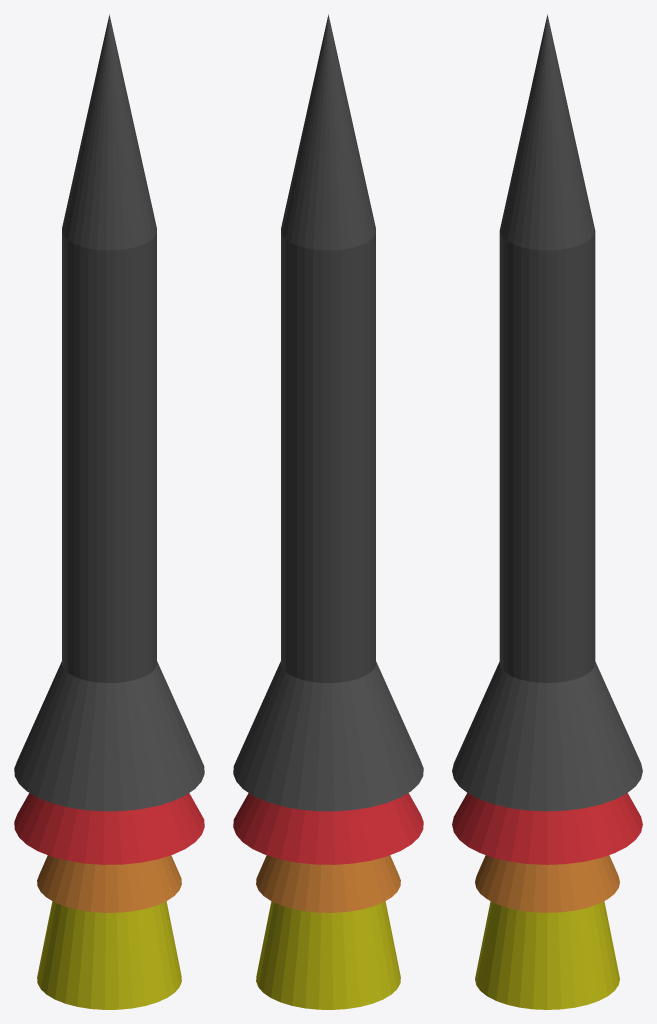
File: missile.glb
The picture shows the model from 3 angles, left to right: view 1: azimuth 30°, elevation 25°; view 2: azimuth 150°, elevation 25°; view 3: azimuth 270°, elevation 25°; orthographic projection.
Visible parts, largest first — view 1: rocket; view 2: rocket; view 3: rocket.
Boxes of the visible parts, x1,y1,x2,y2 form: rocket: [14, 14, 204, 1009]; rocket: [233, 14, 423, 1009]; rocket: [452, 14, 642, 1009].
Bounding box in the file's own units: 0.4 × 2.23 × 0.4.
